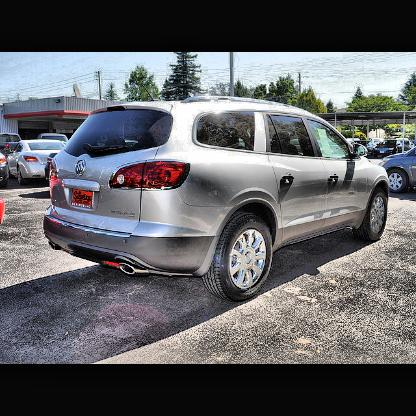Buick Enclave SUV 2012: (42, 98, 393, 303)
